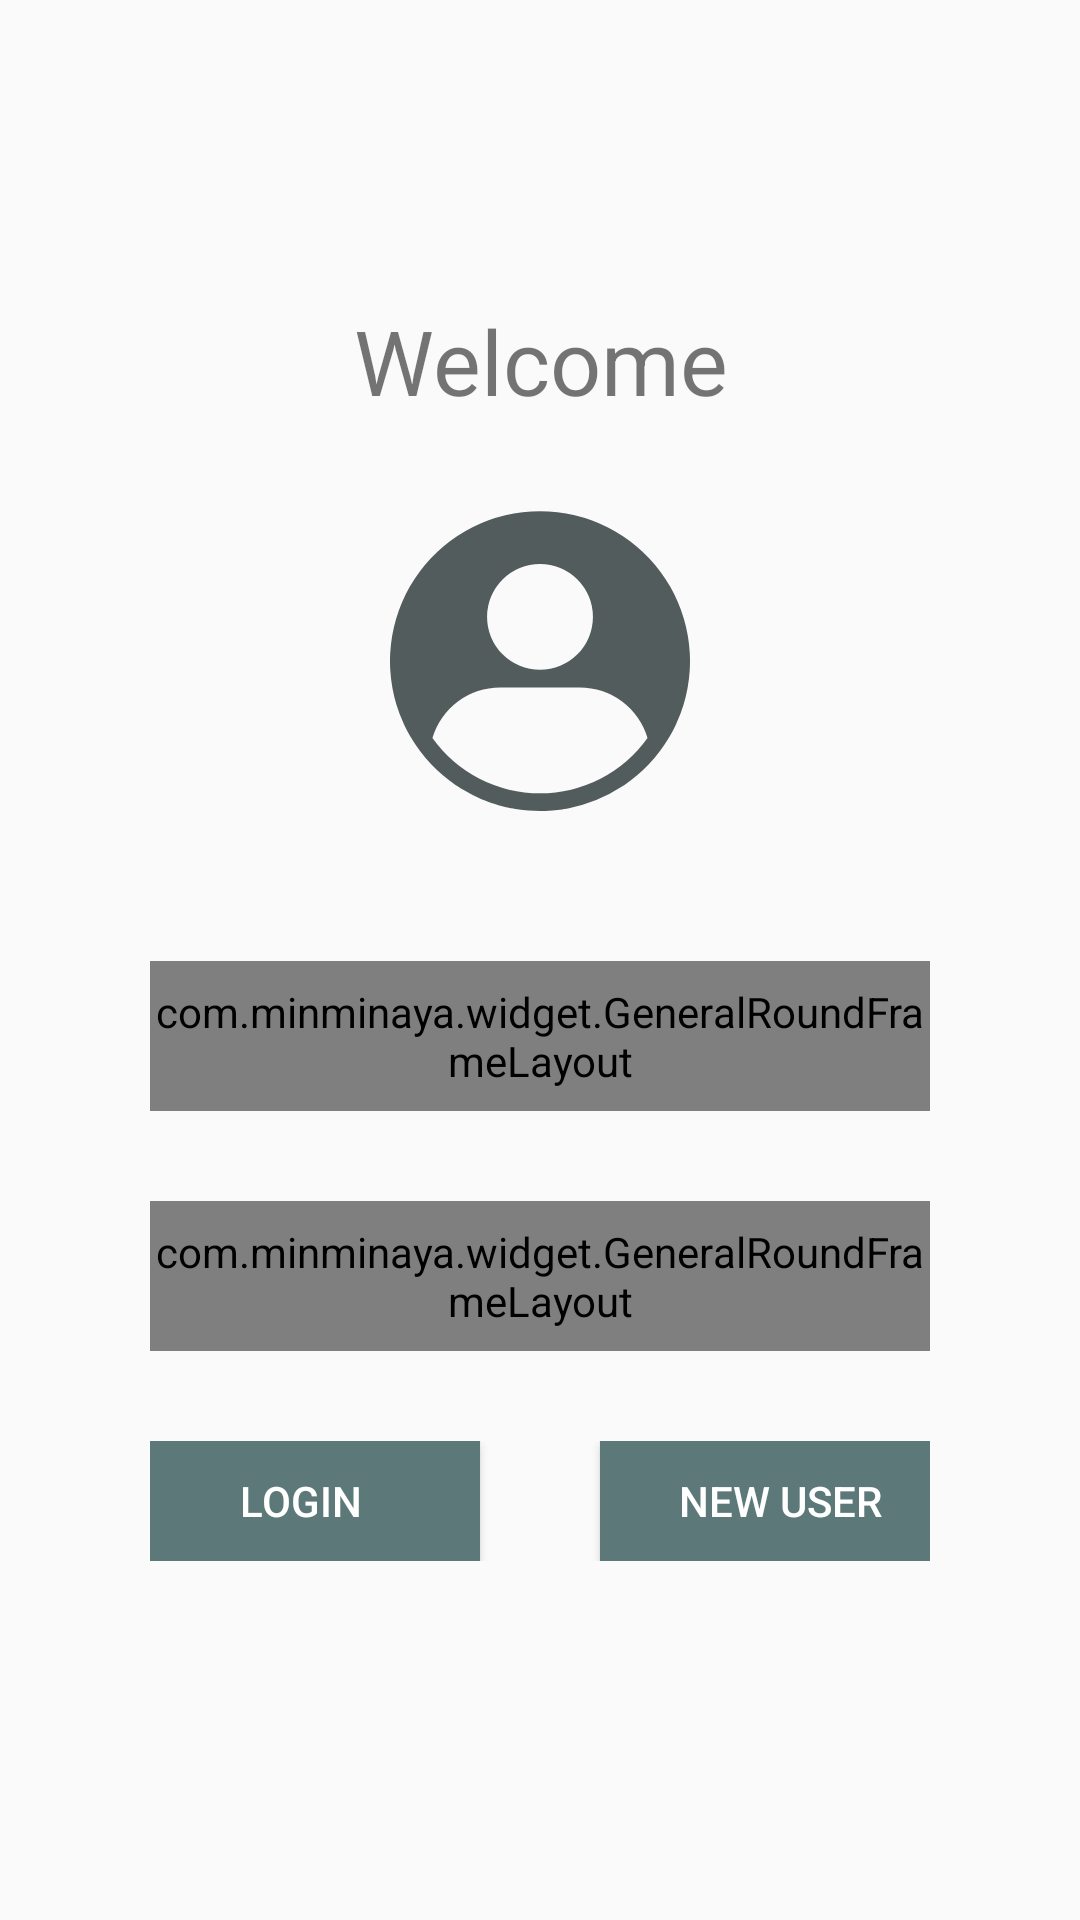

Screen size 1080w x 1920h. Icon name, then its box in pixels as (x1, y1, x2, y2):
user: (390, 511, 690, 811)
